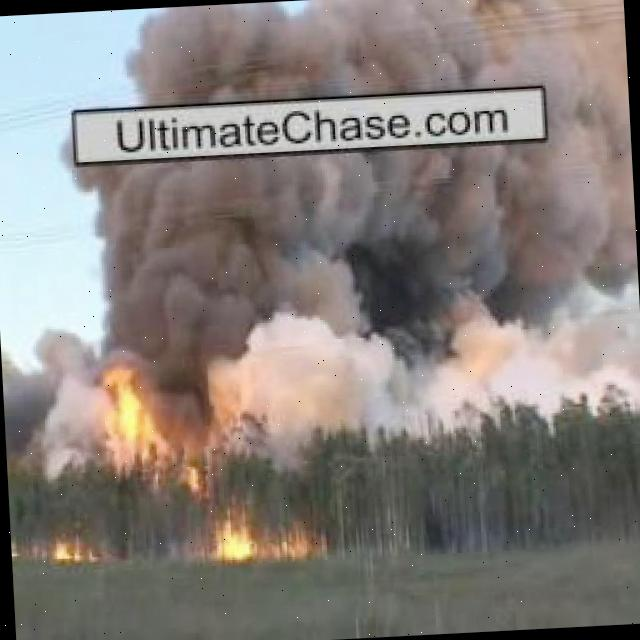fire: (99, 350, 204, 493), (211, 503, 254, 558), (56, 531, 88, 564), (286, 533, 314, 558)
